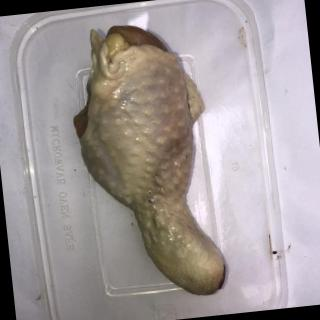Ayam: (63, 16, 230, 309)
